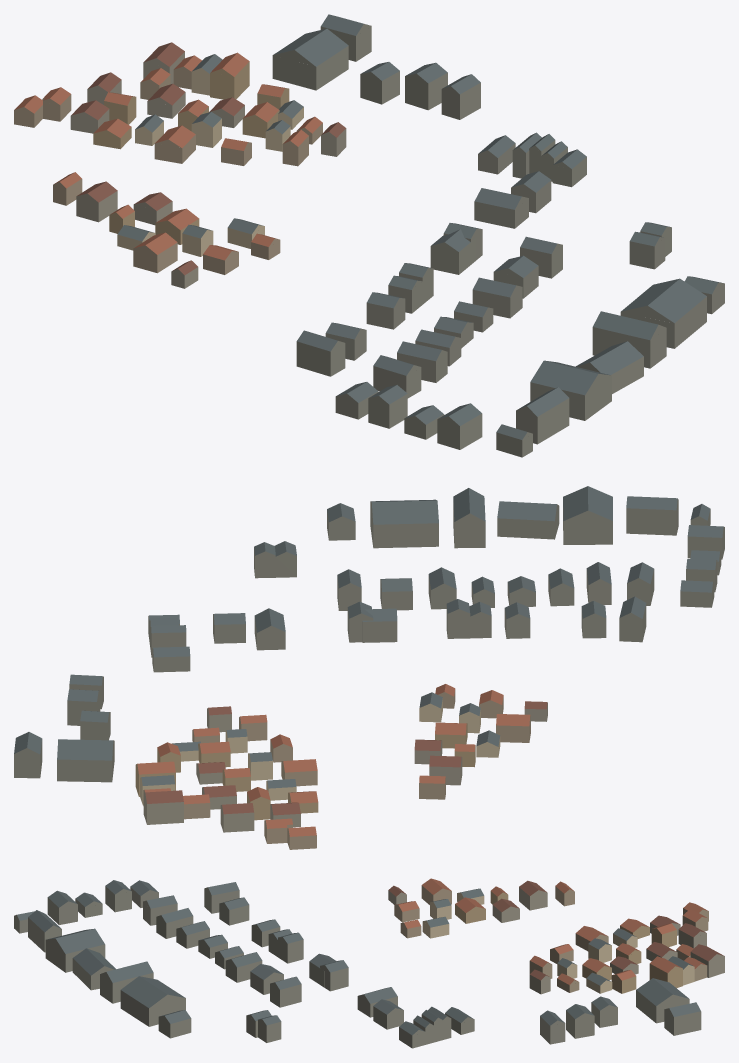
The picture shows the model from 3 angles, top to bottom: view 1: azimuth 30°, elevation 25°; view 2: azimuth 150°, elevation 25°; view 3: azimuth 270°, elevation 25°; orthographic projection. The views are drawn at different scales.
Visible parts, largest first — view 1: C_5_-3; view 2: C_5_-3; view 3: C_5_-3.
Part boxes in pixels (x1,y1,x2,y2): C_5_-3: (14,14,724,457); C_5_-3: (14,486,724,849); C_5_-3: (14,878,724,1048).
Size of the model in its own units: 192 by 15.97 by 374.
